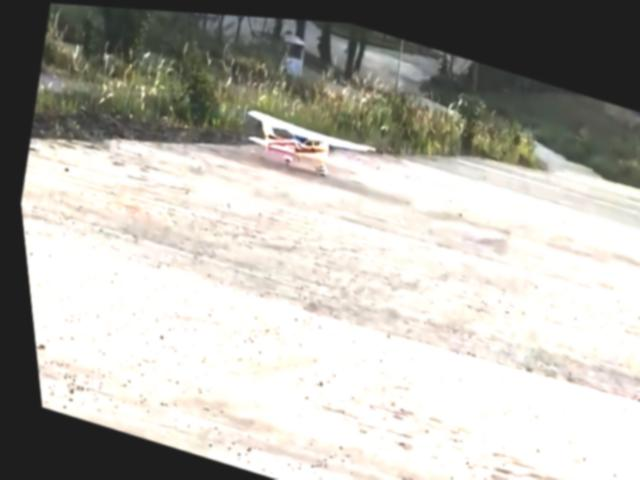plane: (239, 104, 379, 186)
